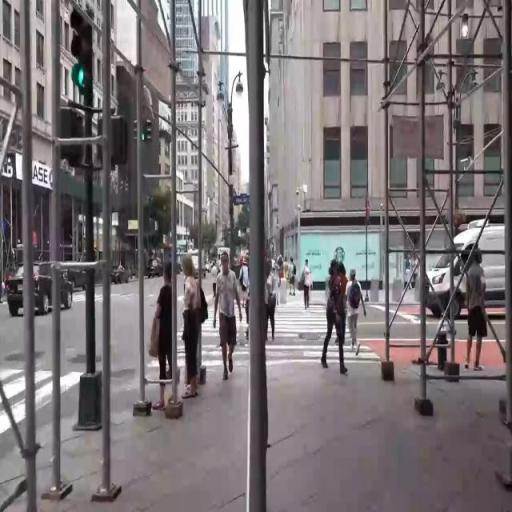person: (180, 251, 206, 404), (213, 249, 240, 392), (468, 241, 491, 378), (156, 257, 177, 406), (324, 262, 347, 389), (242, 254, 259, 346), (348, 268, 364, 359), (265, 265, 279, 341), (304, 256, 316, 312), (288, 253, 299, 299), (277, 250, 286, 280), (272, 254, 276, 274)
